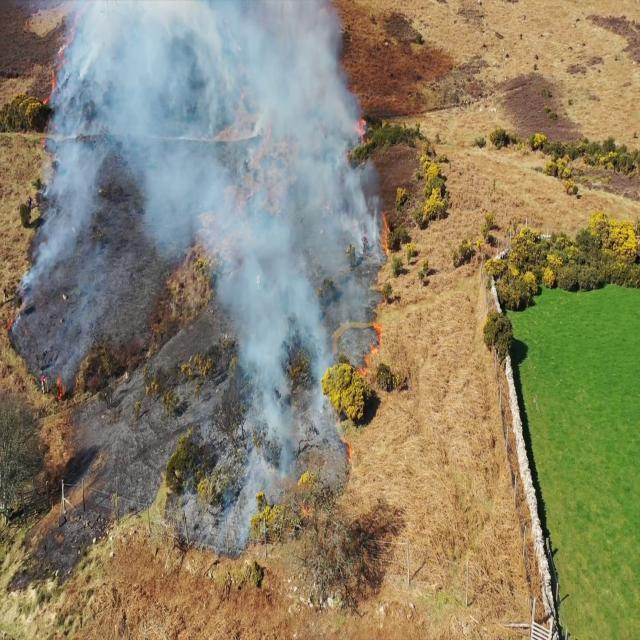Fire: (353, 108, 370, 153), (379, 216, 392, 261), (374, 320, 384, 354)
Smoke: (0, 0, 200, 310), (195, 232, 336, 548), (209, 0, 378, 262)
